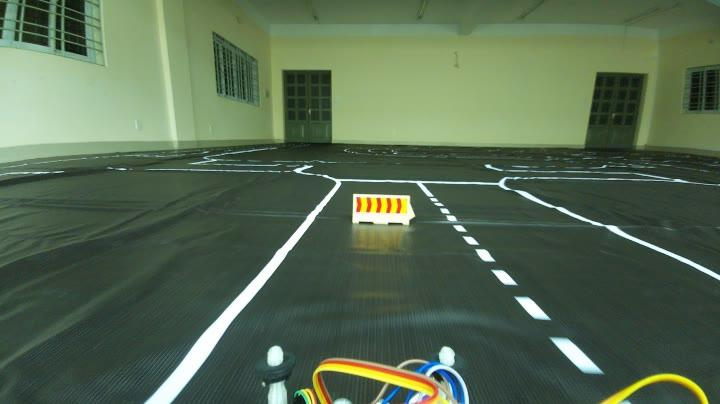roadblock: (344, 186, 424, 238)
